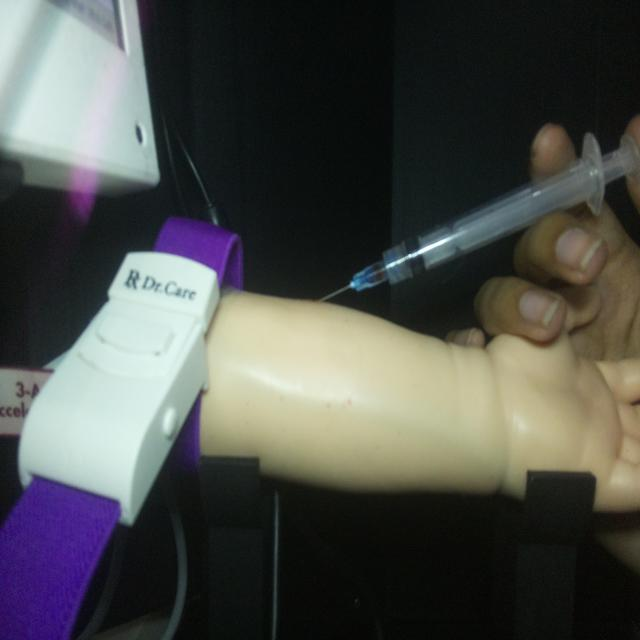17 degrees: (315, 129, 637, 305)
